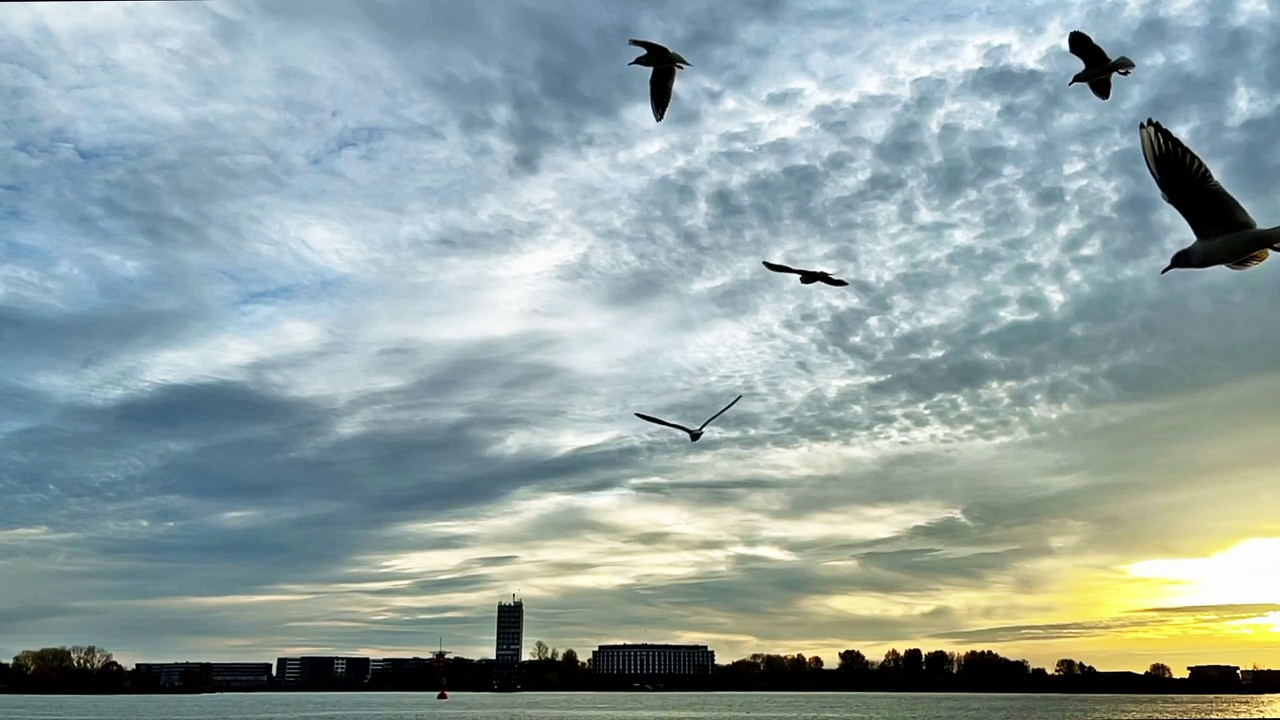bird: (1139, 117, 1279, 273), (624, 34, 692, 120), (634, 395, 743, 443), (1068, 26, 1133, 101), (762, 260, 846, 288)
